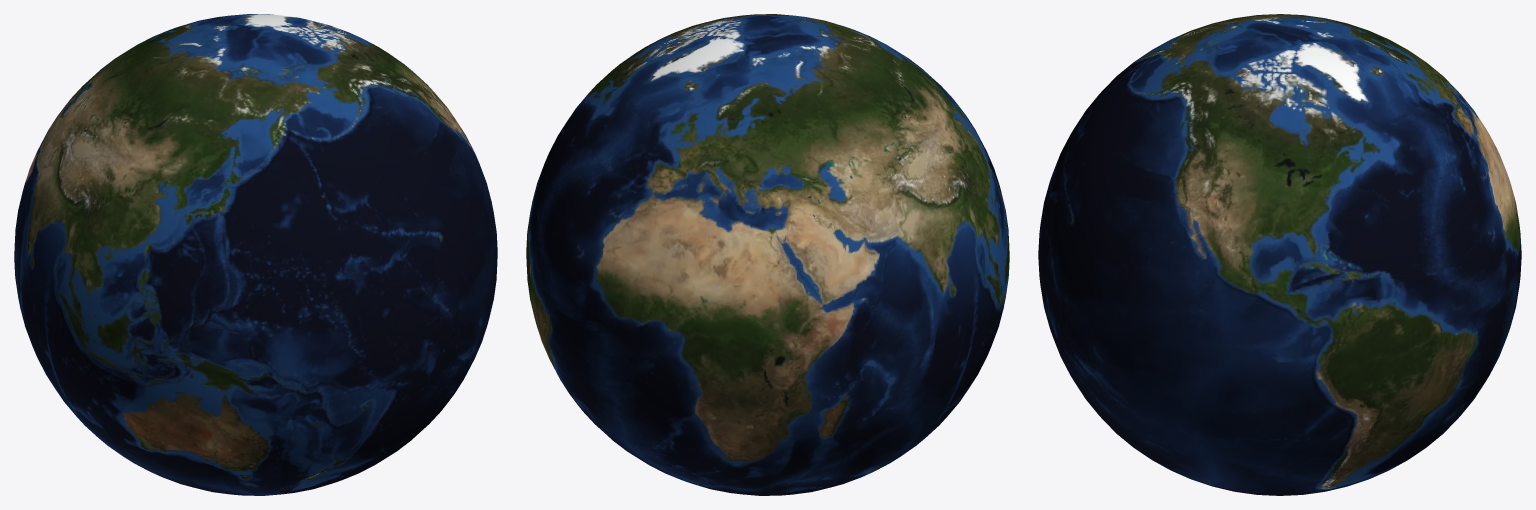
The model's file is earth.glb.
3 views of the same model, side by side, from view 1: azimuth 30°, elevation 25°; view 2: azimuth 150°, elevation 25°; view 3: azimuth 270°, elevation 25° (orthographic).
Parts seen in each view (by area): view 1: Cube.001; view 2: Cube.001; view 3: Cube.001.
Boxes of the visible parts, bbox=[...] form: Cube.001: bbox=[14, 14, 497, 495]; Cube.001: bbox=[526, 14, 1009, 495]; Cube.001: bbox=[1038, 14, 1521, 495].
Size of the model in its own units: 1000 by 997 by 1000.
1 material, 1 textured.
